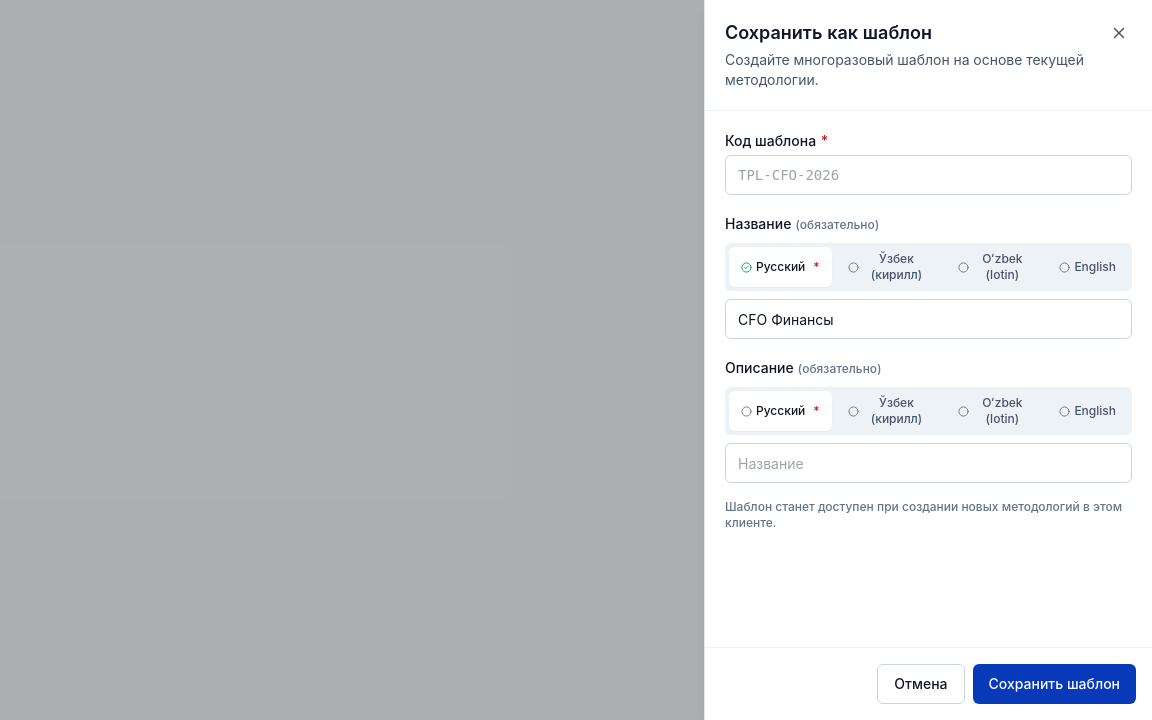
SaveAsTemplateDrawer (Epic E) › surfaces 409 METHODOLOGY_TEMPLATE_CODE_EXISTS inline on the code field
Type "DUP" into the field with test id "save-template-code" at (928, 175), box [725,155,1132,195]
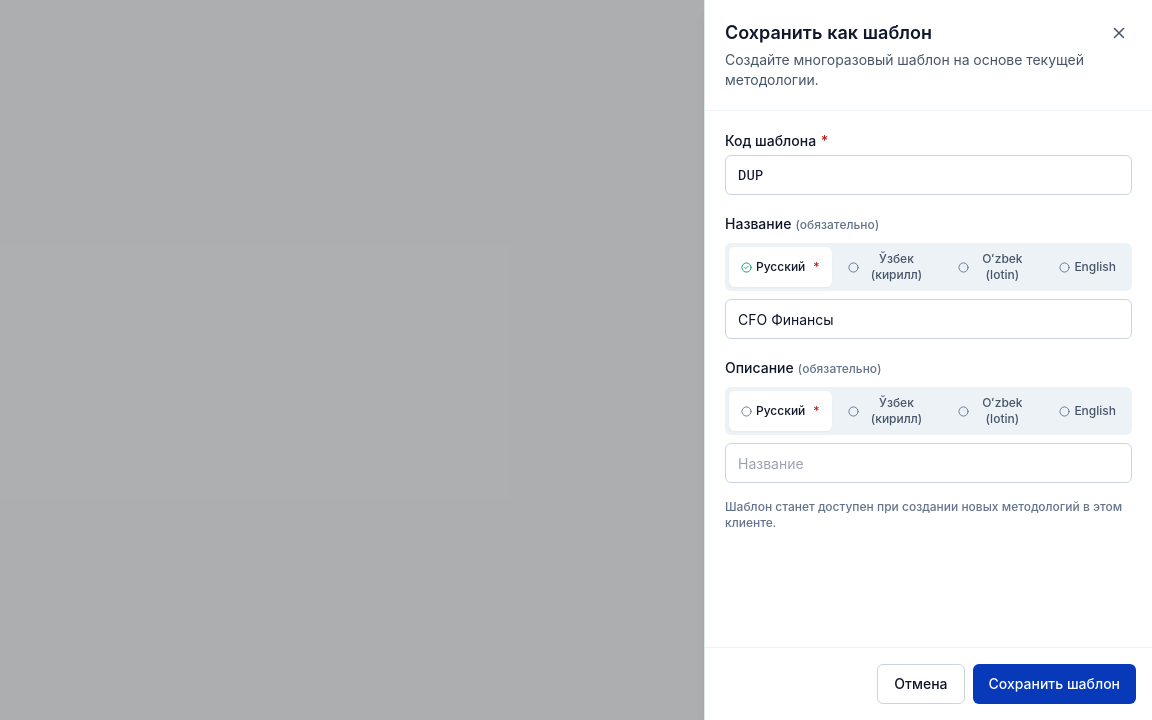
Click the button "Сохранить шаблон" at (1054, 684), box [972,664,1136,704]
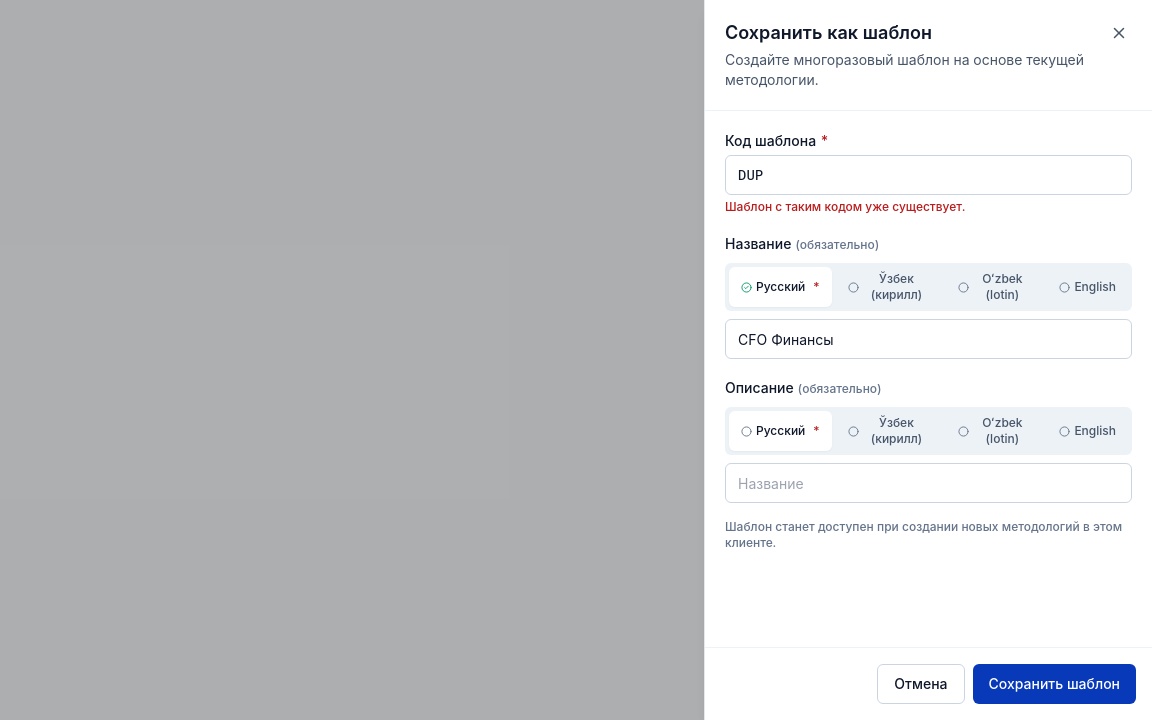
Expected: the message with test id "save-template-code-error" reads "Шаблон с таким кодом уже существует.", [725,199,965,214]
